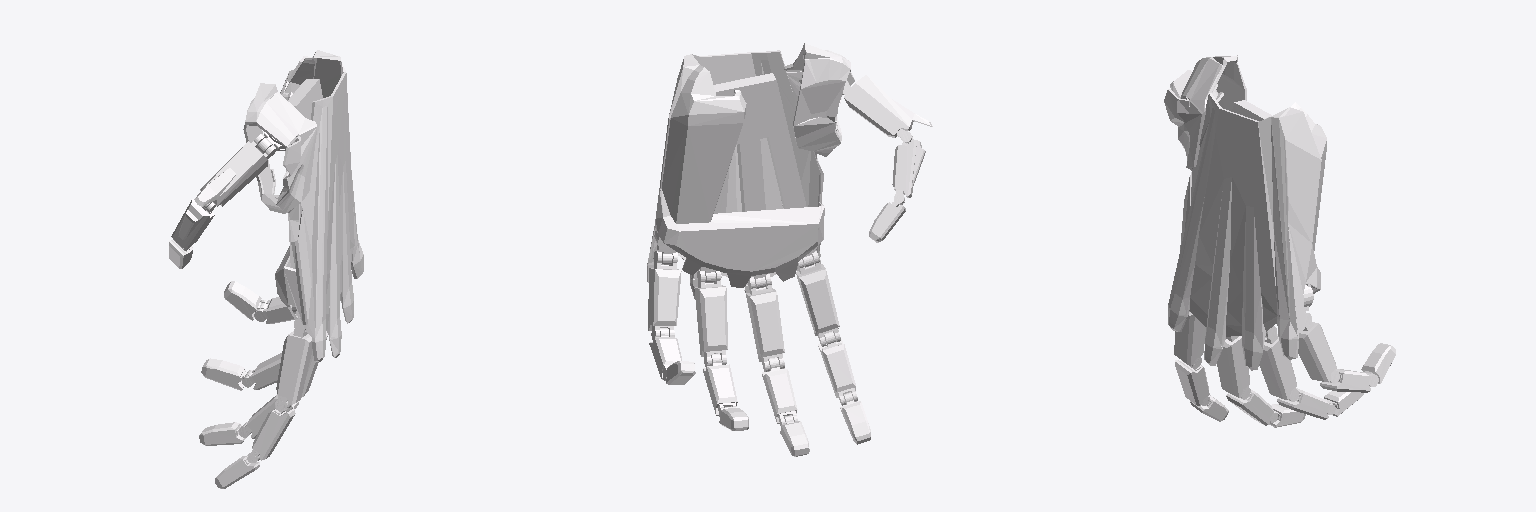
The model's file is leftHand.obj.
3 renders of one model, left to right at view 1: azimuth 30°, elevation 25°; view 2: azimuth 150°, elevation 25°; view 3: azimuth 270°, elevation 25°, orthographic.
Parts seen in each view (by area): view 1: leftHand1, leftHand1 leftThumb1, leftHand1 leftForefinger1, leftHand1 leftForefinger1 leftForefinger2, leftHand1 leftThumb1 leftThumb2, leftHand1 leftRingfinger1 leftRingfinger2 leftRingfinger3, leftHand1 leftLittlefinger1 leftLittlefinger2 leftLittlefinger3, leftHand1 leftMedius1 leftMedius2 leftMedius3, leftHand1 leftRingfinger1 leftRingfinger2, leftHand1 leftForefinger1 leftForefinger2 leftForefinger3, leftHand1 leftLittlefinger1 leftLittlefinger2, leftHand1 leftMedius1 leftMedius2; view 2: leftHand1, leftHand1 leftThumb1, leftHand1 leftRingfinger1, leftHand1 leftMedius1, leftHand1 leftLittlefinger1, leftHand1 leftForefinger1, leftHand1 leftForefinger1 leftForefinger2, leftHand1 leftThumb1 leftThumb2, leftHand1 leftMedius1 leftMedius2, leftHand1 leftRingfinger1 leftRingfinger2, leftHand1 leftForefinger1 leftForefinger2 leftForefinger3, leftHand1 leftLittlefinger1 leftLittlefinger2 (+4 smaller); view 3: leftHand1, leftHand1 leftLittlefinger1, leftHand1 leftRingfinger1, leftHand1 leftMedius1, leftHand1 leftForefinger1, leftHand1 leftForefinger1 leftForefinger2, leftHand1 leftLittlefinger1 leftLittlefinger2, leftHand1 leftRingfinger1 leftRingfinger2, leftHand1 leftMedius1 leftMedius2, leftHand1 leftLittlefinger1 leftLittlefinger2 leftLittlefinger3, leftHand1 leftRingfinger1 leftRingfinger2 leftRingfinger3.
Boxes of the visible parts, box(x1,y1,x2,y2) form: leftHand1: box(243, 50, 363, 361); leftHand1 leftThumb1: box(194, 134, 276, 212); leftHand1 leftForefinger1: box(275, 317, 312, 411); leftHand1 leftForefinger1 leftForefinger2: box(247, 403, 295, 462); leftHand1 leftThumb1 leftThumb2: box(171, 199, 214, 250); leftHand1 leftRingfinger1 leftRingfinger2 leftRingfinger3: box(201, 358, 252, 390); leftHand1 leftLittlefinger1 leftLittlefinger2 leftLittlefinger3: box(224, 281, 267, 320); leftHand1 leftMedius1 leftMedius2 leftMedius3: box(199, 422, 251, 445); leftHand1 leftRingfinger1 leftRingfinger2: box(242, 353, 281, 389); leftHand1 leftForefinger1 leftForefinger2 leftForefinger3: box(215, 455, 259, 488); leftHand1 leftLittlefinger1 leftLittlefinger2: box(254, 297, 294, 323); leftHand1 leftMedius1 leftMedius2: box(239, 395, 298, 438); leftHand1: box(647, 43, 854, 299); leftHand1 leftThumb1: box(843, 75, 932, 142); leftHand1 leftRingfinger1: box(694, 270, 727, 366); leftHand1 leftMedius1: box(746, 274, 784, 371); leftHand1 leftLittlefinger1: box(648, 251, 681, 339); leftHand1 leftForefinger1: box(796, 251, 840, 346); leftHand1 leftForefinger1 leftForefinger2: box(818, 331, 857, 405); leftHand1 leftThumb1 leftThumb2: box(892, 139, 925, 204); leftHand1 leftMedius1 leftMedius2: box(762, 357, 797, 425); leftHand1 leftRingfinger1 leftRingfinger2: box(703, 353, 737, 418); leftHand1 leftForefinger1 leftForefinger2 leftForefinger3: box(840, 392, 870, 444); leftHand1 leftLittlefinger1 leftLittlefinger2: box(649, 328, 681, 380); leftHand1: box(1164, 55, 1326, 370); leftHand1 leftLittlefinger1: box(1298, 312, 1339, 383); leftHand1 leftRingfinger1: box(1259, 326, 1298, 401); leftHand1 leftMedius1: box(1217, 336, 1250, 399); leftHand1 leftForefinger1: box(1174, 312, 1205, 368); leftHand1 leftForefinger1 leftForefinger2: box(1175, 360, 1209, 405); leftHand1 leftLittlefinger1 leftLittlefinger2: box(1320, 368, 1378, 392); leftHand1 leftRingfinger1 leftRingfinger2: box(1277, 388, 1335, 419); leftHand1 leftMedius1 leftMedius2: box(1226, 390, 1277, 425); leftHand1 leftLittlefinger1 leftLittlefinger2 leftLittlefinger3: box(1361, 343, 1395, 383); leftHand1 leftRingfinger1 leftRingfinger2 leftRingfinger3: box(1324, 391, 1363, 416).
Size of the model in its own units: 0.5178 by 0.8483 by 0.4593.